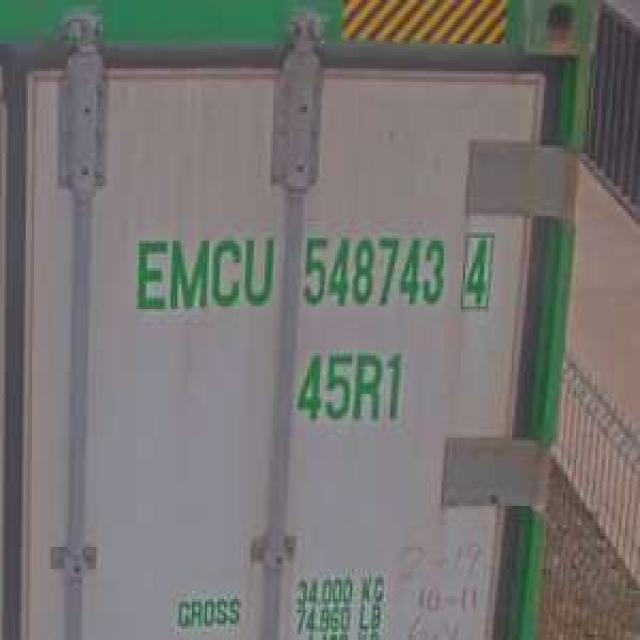dv: (460, 228, 497, 315)
owner: (132, 229, 278, 322)
serial: (299, 228, 447, 319)
size: (293, 343, 406, 424)
